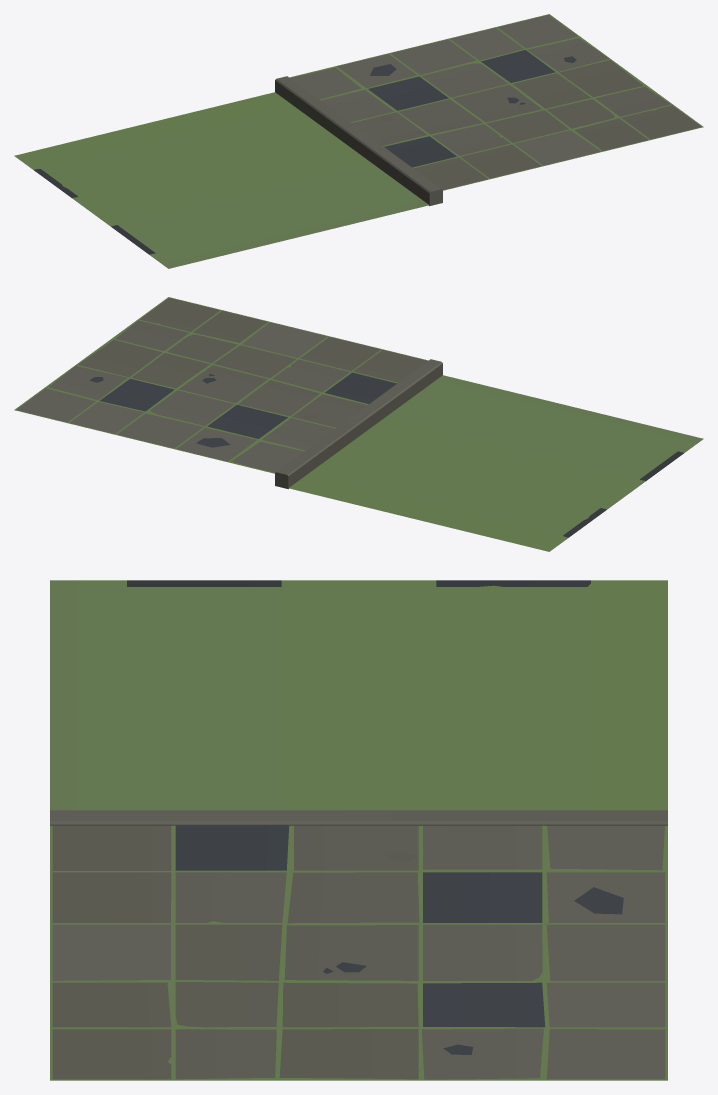
The model's file is Road_12.fbx.
3 renders of one model, top to bottom at view 1: azimuth 30°, elevation 25°; view 2: azimuth 150°, elevation 25°; view 3: azimuth 270°, elevation 25°, orthographic. The views are drawn at different scales.
Visible parts, largest first — view 1: Road_12; view 2: Road_12; view 3: Road_12.
Boxes of the visible parts, x1,y1,x2,y2 form: Road_12: (14,14,703,268); Road_12: (14,297,703,551); Road_12: (50,580,667,1080).
Size of the model in its own units: 6 by 0.15 by 3.
